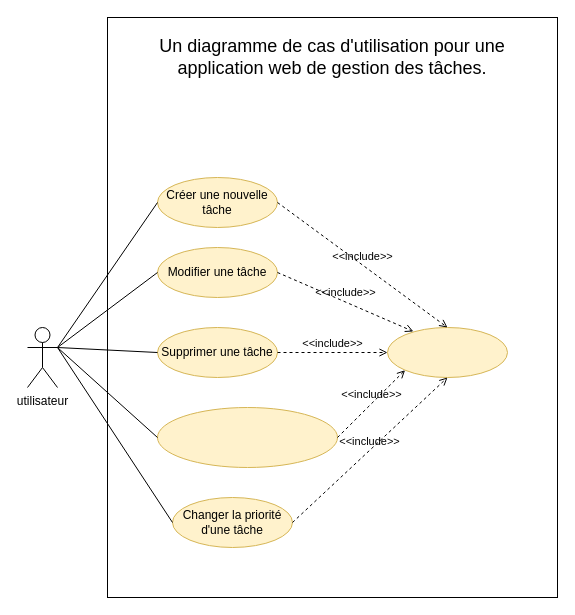
This 575x615 diagram has some shape labels left out. Each missing label, with the box of its shape:
Authentification: (386, 326, 508, 378)
Changer le statut d'une tâche (To-Do / Doing / Done): (156, 406, 338, 468)
